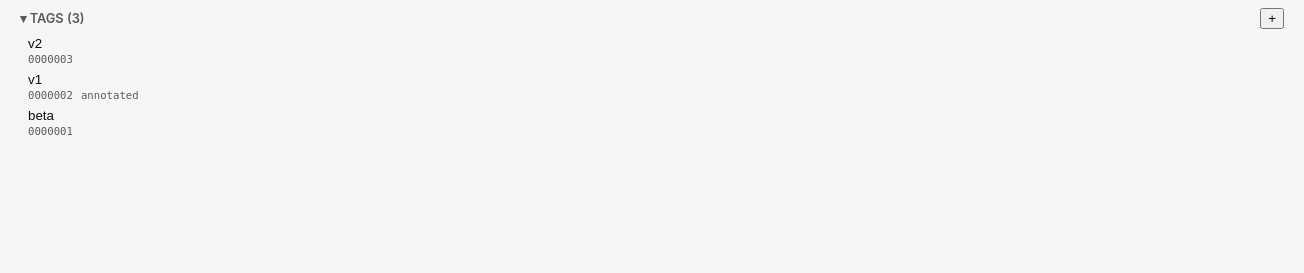
Scenario: TagsPanel context menu › lists Copy name, Push to and Delete from per remote, then Delete tag…
Expected: the list named "Tag list" is shown, [12, 33, 1292, 149]
Right-click the button "v1 0000002 annotated": (50, 96) [12, 69, 1292, 105]
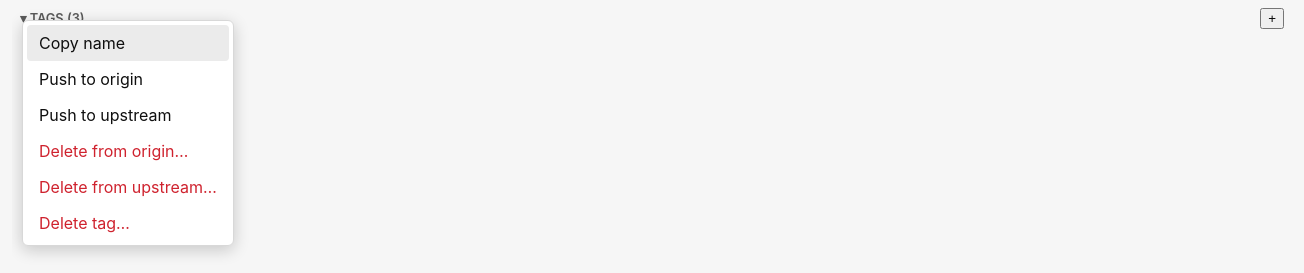
Result: the menu items read "Copy name", "Push to origin", "Push to upstream", "Delete from origin…", "Delete from upstream…", "Delete tag…", in this order at [27, 25, 229, 61]; [27, 61, 229, 97]; [27, 97, 229, 133]; [27, 133, 229, 169]; [27, 169, 229, 205]; [27, 205, 229, 241]
